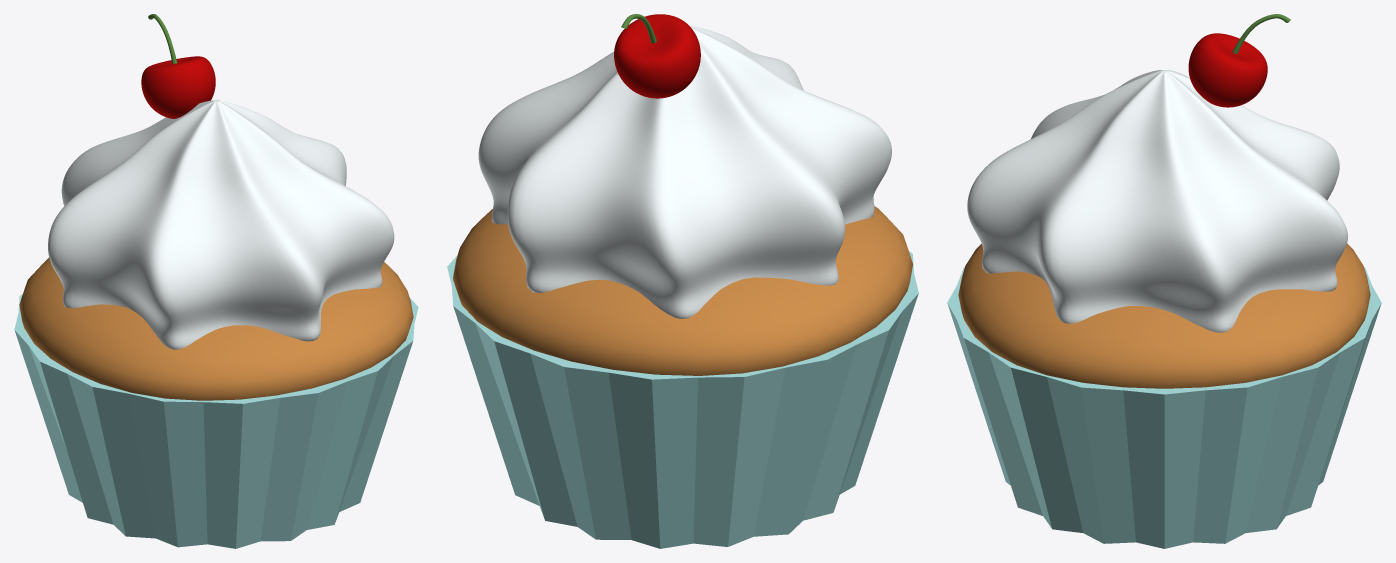
File: cupcake.glb
3 views of the same model, side by side, from view 1: azimuth 30°, elevation 25°; view 2: azimuth 150°, elevation 25°; view 3: azimuth 270°, elevation 25° (orthographic). The views are drawn at different scales.
Parts seen in each view (by area): view 1: Star, Circle, Cube, Sphere; view 2: Star, Circle, Cube, Sphere; view 3: Star, Circle, Cube, Sphere.
Part boxes in pixels (x1,y1,x2,y2): Star: (48,99,394,349); Circle: (14,294,418,548); Cube: (19,257,413,400); Sphere: (141,56,215,118); Star: (478,25,891,318); Circle: (447,251,918,548); Cube: (453,206,912,375); Sphere: (614,14,700,98); Star: (967,70,1347,332); Circle: (947,267,1381,548); Cube: (958,243,1370,388); Sphere: (1188,33,1267,107).
Size of the model in its own units: 2.74 by 3.22 by 2.74.
